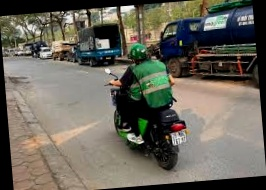Bien-so: (173, 128, 191, 145)
